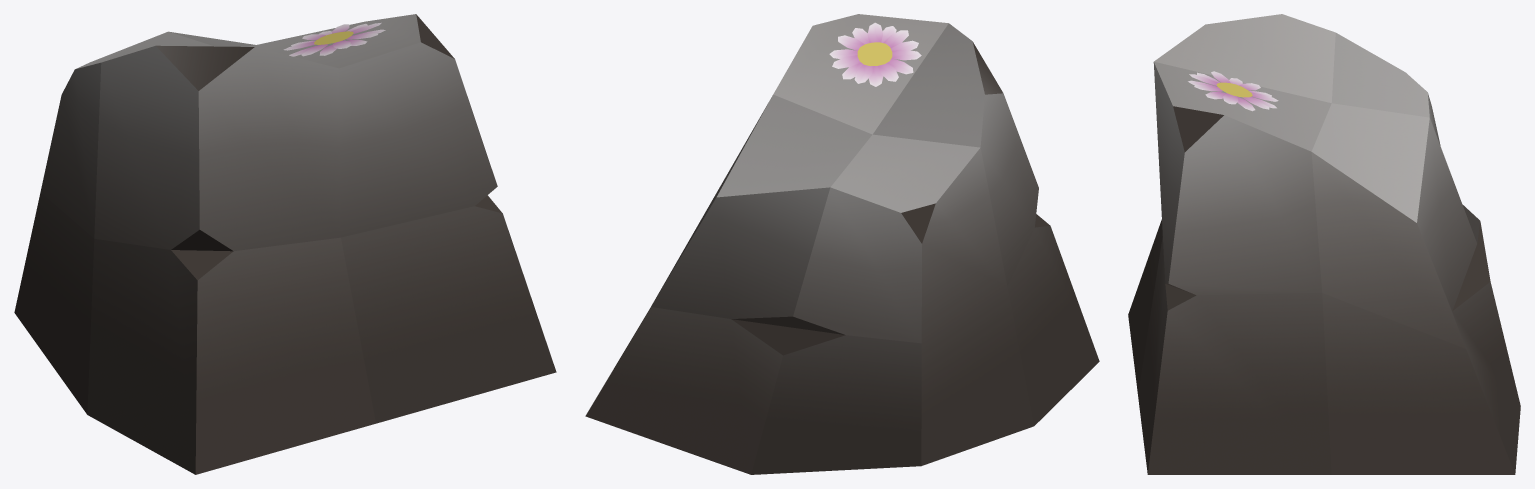
Rendered from rock_style2_mapped.fbx.
The picture shows the model from 3 angles, left to right: view 1: azimuth 30°, elevation 25°; view 2: azimuth 150°, elevation 25°; view 3: azimuth 270°, elevation 25°; orthographic projection. The views are drawn at different scales.
Visible parts, largest first — view 1: Cube; view 2: Cube, Plane; view 3: Cube.
Boxes of the visible parts, x1,y1,x2,y2 form: Cube: [14, 14, 556, 474]; Cube: [585, 14, 1099, 474]; Plane: [857, 42, 892, 66]; Cube: [1128, 14, 1520, 474].
Size of the model in its own units: 220 by 209 by 214.
1 material, 1 textured.
